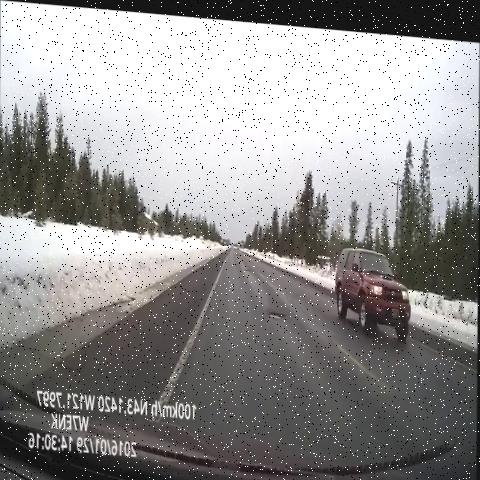pothole: (256, 294, 292, 327), (229, 241, 246, 261), (240, 259, 257, 276)
